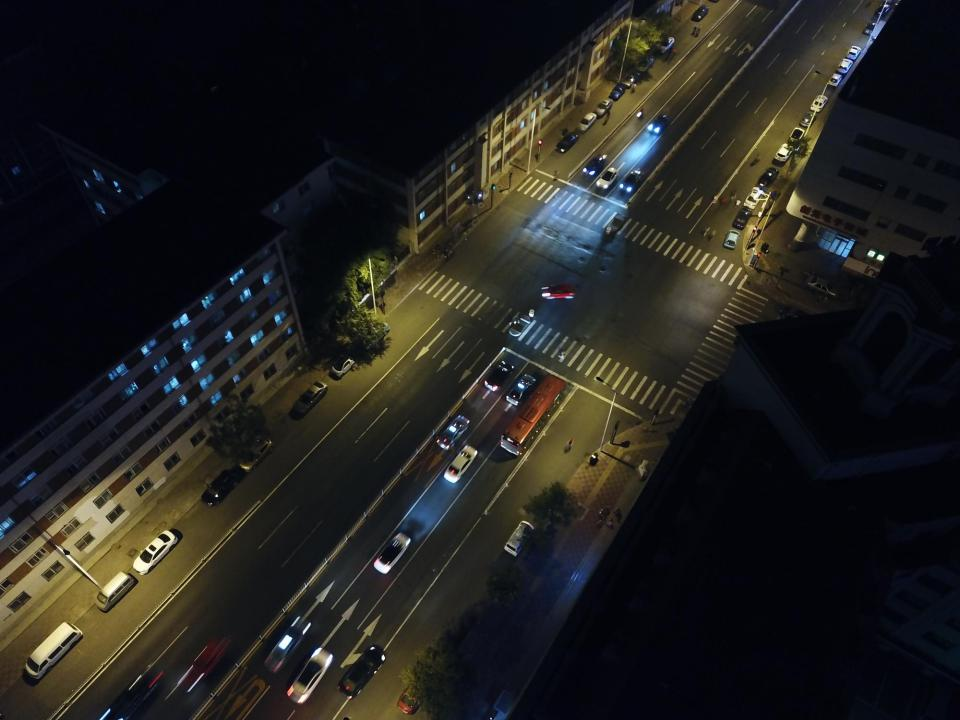bus: (500, 373, 566, 456)
car: (88, 664, 164, 720), (177, 636, 233, 694), (262, 616, 312, 675), (336, 644, 386, 700), (287, 647, 332, 704), (132, 530, 180, 576), (397, 668, 437, 714), (372, 531, 412, 574), (777, 302, 826, 332), (200, 469, 238, 507), (443, 445, 478, 483), (239, 435, 274, 473), (293, 380, 329, 416), (435, 415, 470, 450), (357, 320, 392, 354), (505, 374, 538, 406), (803, 273, 841, 299), (484, 360, 515, 391), (330, 353, 358, 379), (618, 168, 645, 192), (540, 283, 576, 300), (582, 154, 606, 178), (596, 166, 619, 189), (555, 131, 579, 153), (646, 113, 670, 134), (744, 187, 764, 210), (758, 167, 780, 187), (732, 207, 751, 230), (654, 35, 676, 54), (594, 97, 614, 117), (576, 112, 597, 131), (723, 229, 741, 251), (774, 143, 794, 162), (809, 93, 828, 112), (621, 70, 641, 88), (633, 56, 654, 73), (835, 57, 854, 75), (798, 109, 816, 128), (692, 4, 710, 22), (609, 83, 627, 101), (845, 44, 862, 61), (826, 72, 842, 90), (787, 126, 805, 142)
van: (24, 622, 84, 680), (93, 572, 135, 612), (504, 520, 534, 558), (861, 13, 882, 37)
